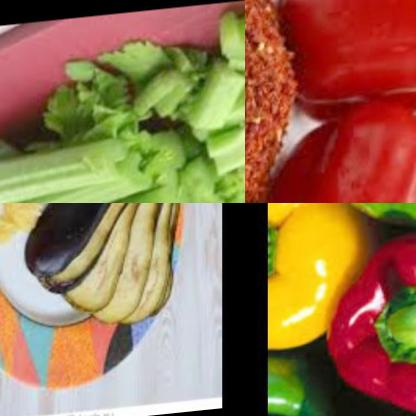bell pepper: (267, 0, 416, 141), (245, 91, 416, 203), (319, 220, 416, 416), (266, 203, 364, 359), (267, 342, 361, 416), (324, 203, 416, 242)
celery: (110, 2, 245, 203), (0, 105, 245, 203)
eggplant: (32, 203, 218, 341)
